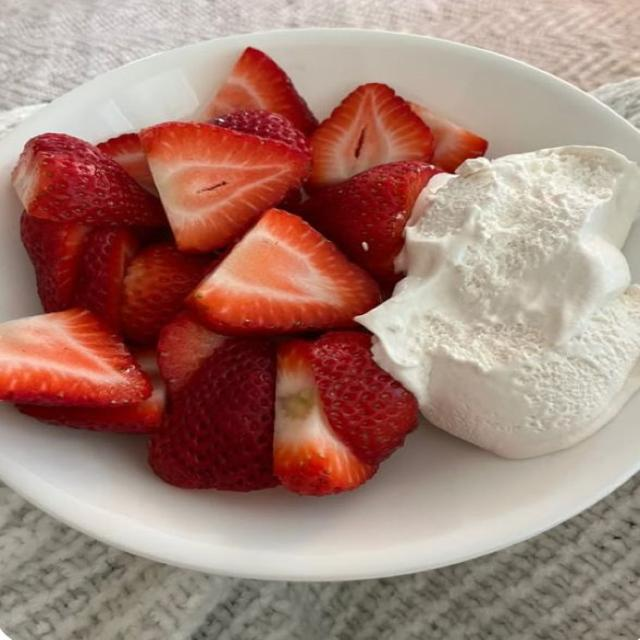strawberry sliced: (188, 210, 379, 335), (141, 122, 309, 252), (150, 339, 277, 491), (301, 161, 439, 286), (274, 340, 377, 495), (0, 309, 151, 406), (12, 133, 166, 226), (311, 332, 417, 463), (311, 83, 434, 187), (18, 350, 165, 433), (205, 48, 317, 134), (121, 243, 210, 344), (21, 213, 90, 312), (75, 227, 139, 330), (158, 311, 227, 394), (410, 104, 487, 172), (212, 110, 311, 156), (211, 110, 311, 154), (97, 133, 156, 194)
